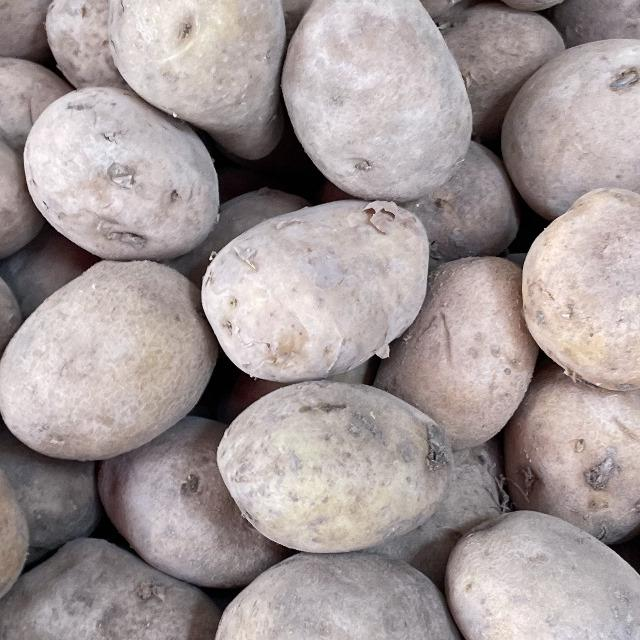potato: (200, 175, 468, 392), (0, 245, 240, 467), (277, 0, 475, 200), (430, 475, 640, 640), (495, 165, 640, 397), (192, 530, 475, 640)
